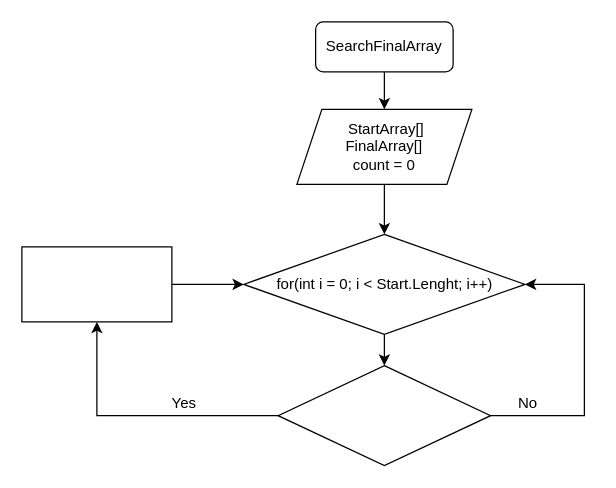
Image size: 616x488. Some labels were removed from this diagram. The centre of each missing label's shape, as x and y in pixels:
"FinalArray[count] = StartArray[i] count++" belongs at (96,284).
"StartArray[i] <= 3" belongs at (384,415).
